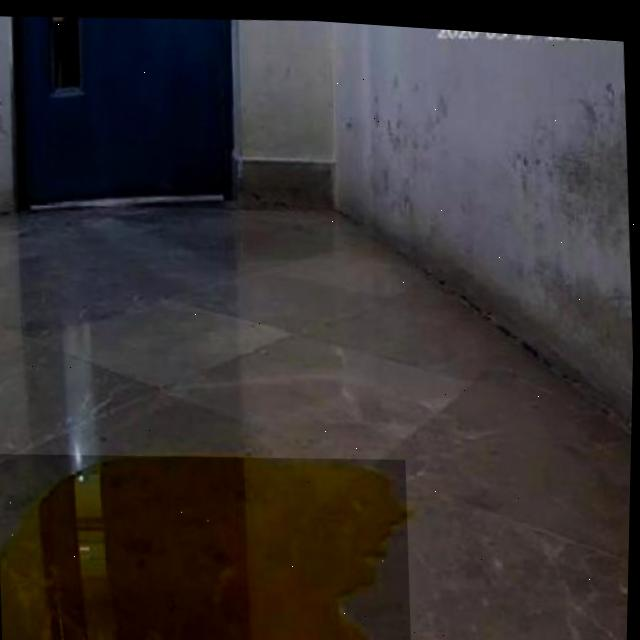spillage: (2, 454, 409, 640)
